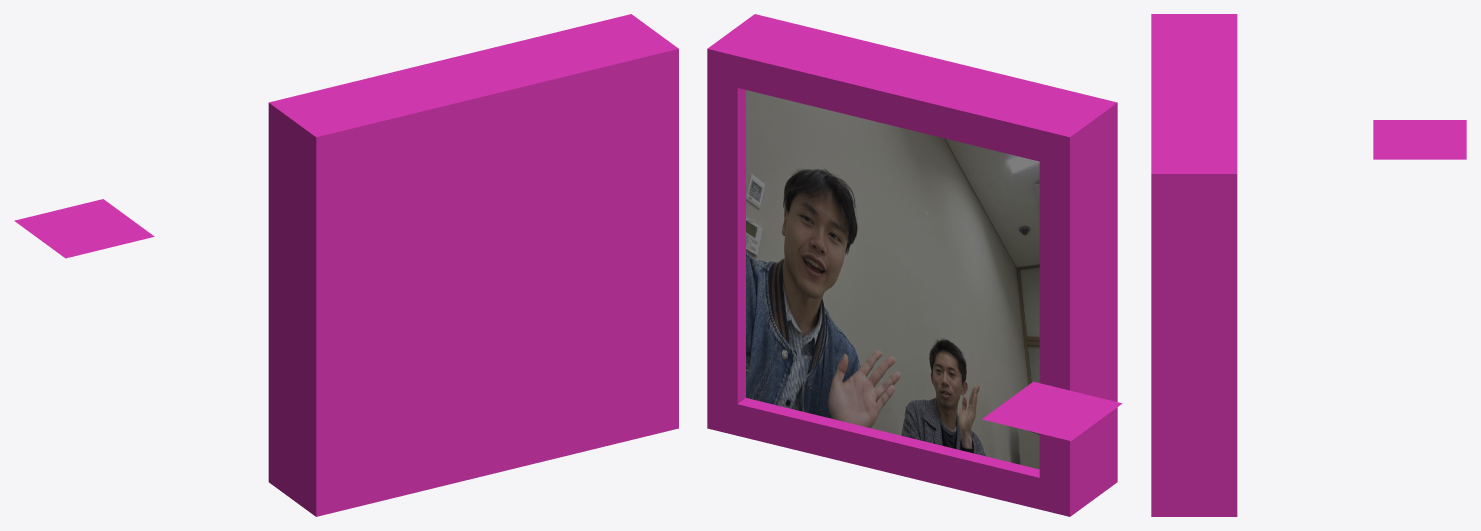
File: ツーショット.glb
3 renders of one model, left to right at view 1: azimuth 30°, elevation 25°; view 2: azimuth 150°, elevation 25°; view 3: azimuth 270°, elevation 25°, orthographic. The views are drawn at different scales.
Visible parts, largest first — view 1: 立方体; view 2: 立方体; view 3: 立方体.
Part boxes in pixels (bbox=[...]): 立方体: bbox=[14, 14, 678, 516]; 立方体: bbox=[707, 14, 1122, 516]; 立方体: bbox=[1151, 14, 1466, 516].
Size of the model in its own units: 159 by 118 by 98.1.
Materials: 2 (1 with a texture image).
